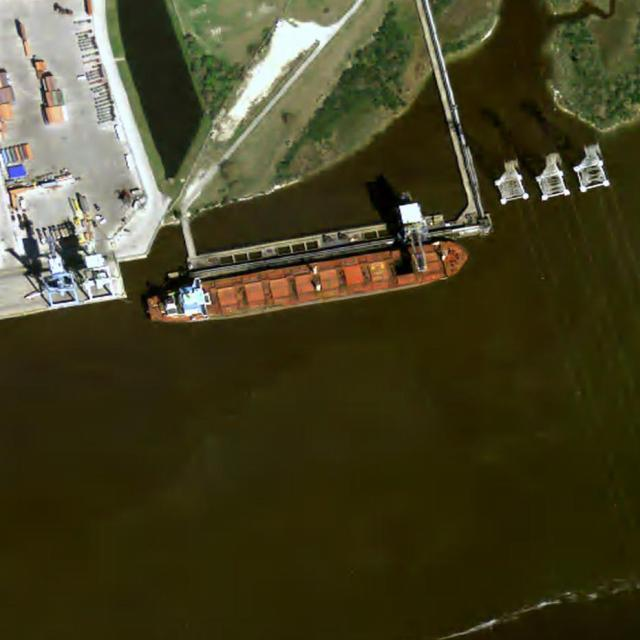Cargo: (142, 236, 473, 331)
Dock: (188, 207, 495, 279)
